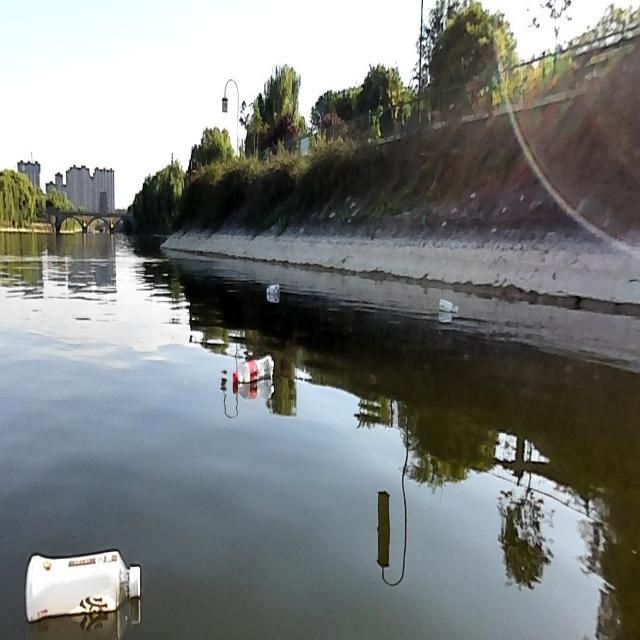bottle: (23, 547, 143, 623), (230, 350, 274, 387), (437, 293, 459, 312), (265, 280, 281, 298)
